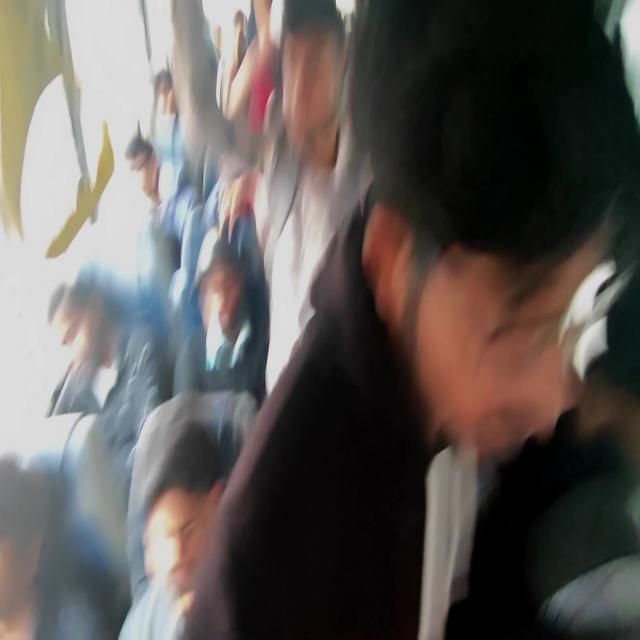person: (364, 15, 612, 476), (128, 422, 222, 602), (50, 281, 124, 382), (0, 472, 39, 640), (290, 28, 353, 118), (201, 262, 249, 348), (208, 141, 252, 228), (243, 6, 292, 70), (128, 148, 168, 208), (150, 61, 182, 115), (226, 14, 253, 46)
